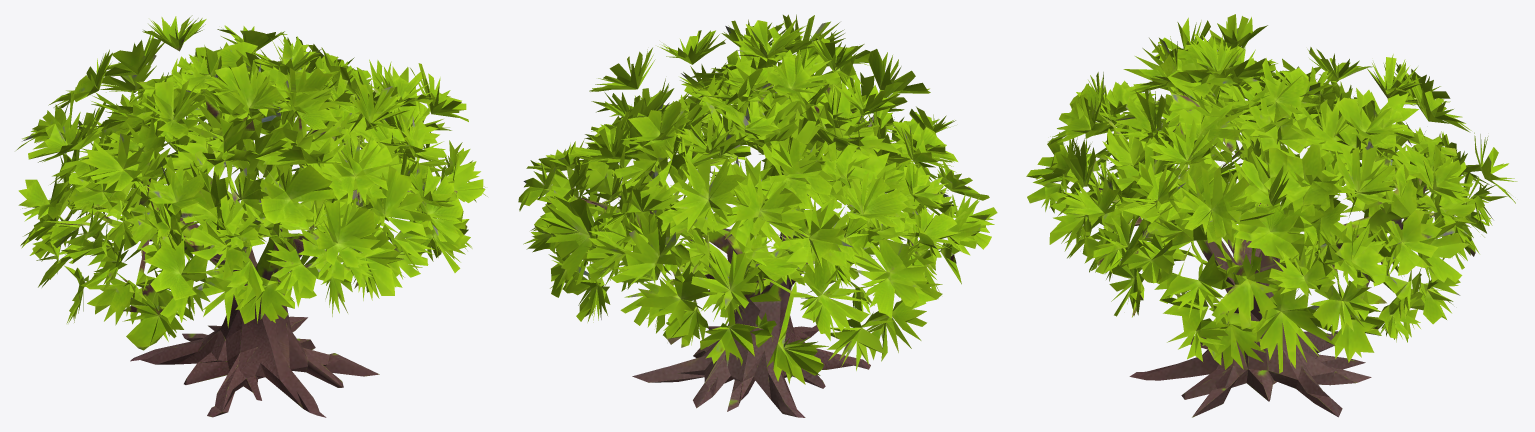
Rendered from GinkgoShrub.glb.
3 views of the same model, side by side, from view 1: azimuth 30°, elevation 25°; view 2: azimuth 150°, elevation 25°; view 3: azimuth 270°, elevation 25° (orthographic). The views are drawn at different scales.
Bounding box in the file's own units: 1.88 × 1.43 × 1.9.
1 material, 1 textured.
